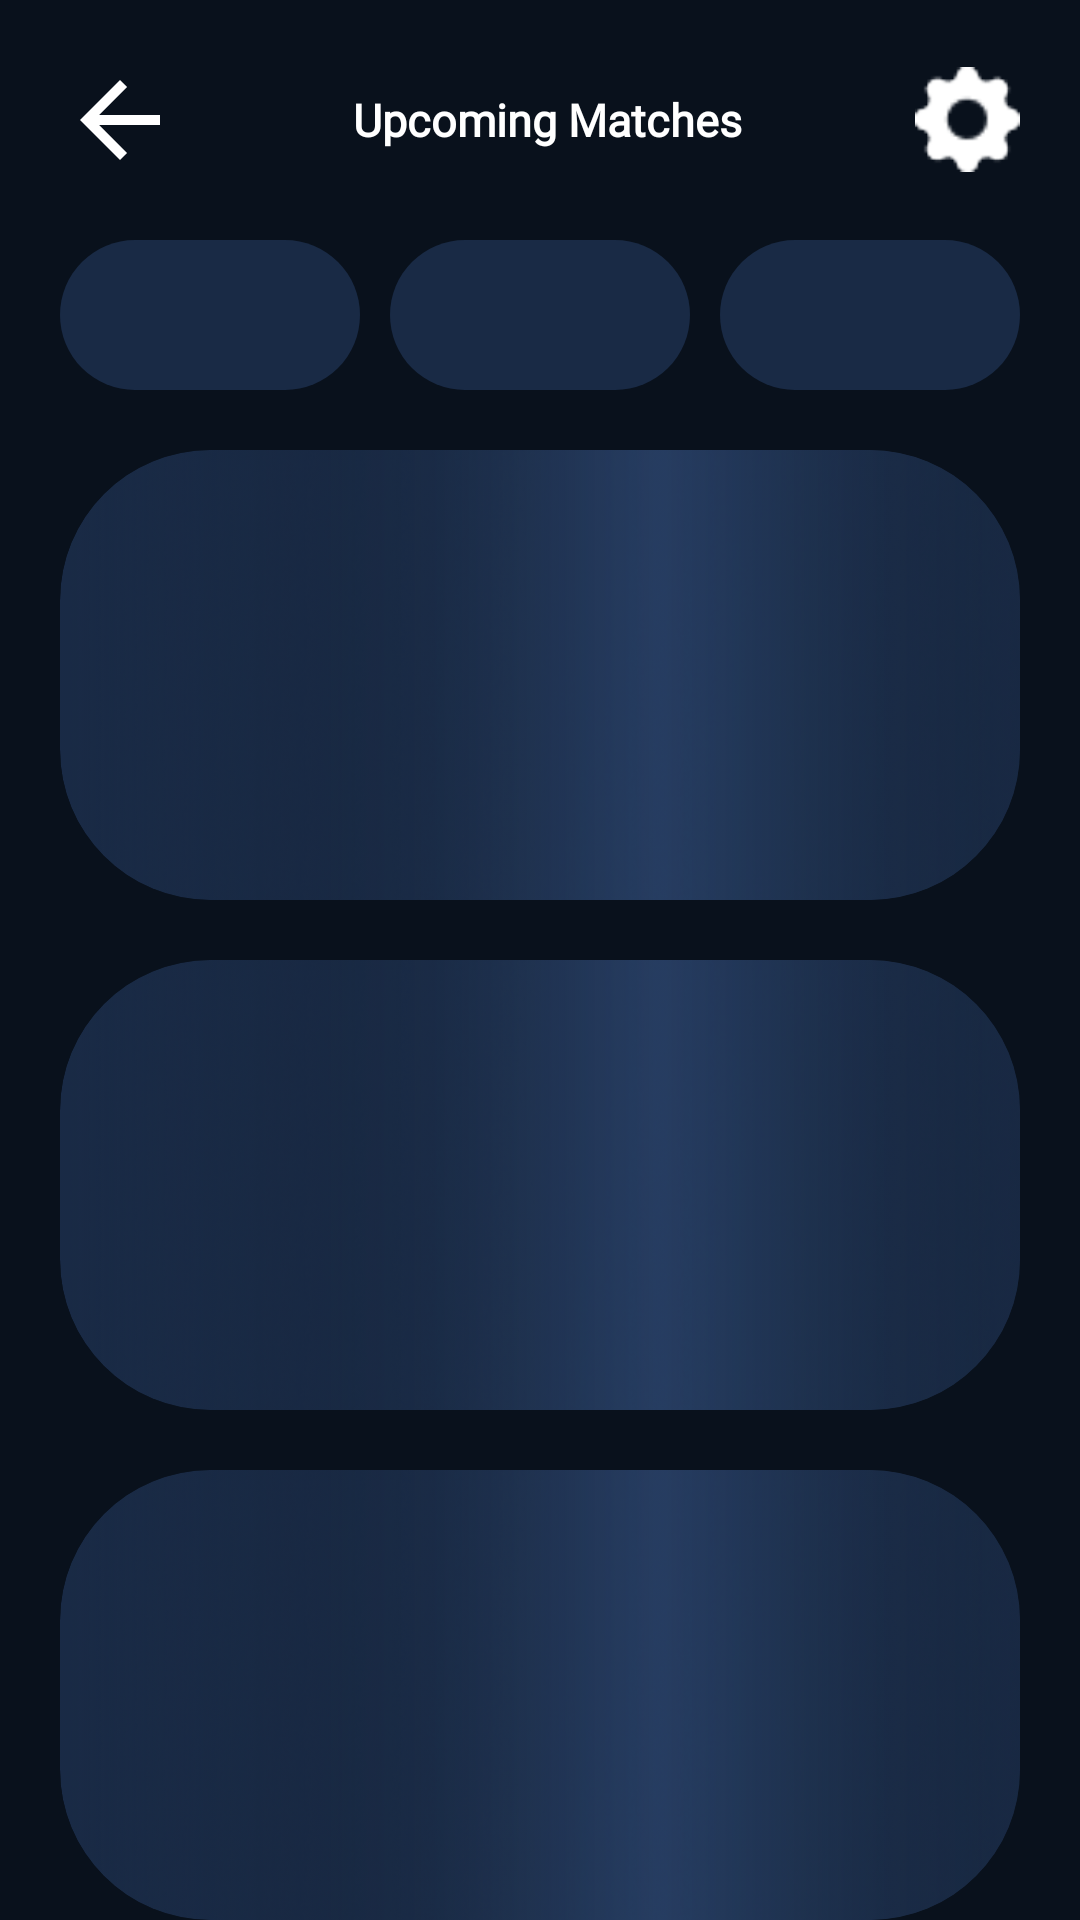

Where to tap for icons on this 1080 × 1920 app screen, as point (x, y):
settings: point (967, 119)
